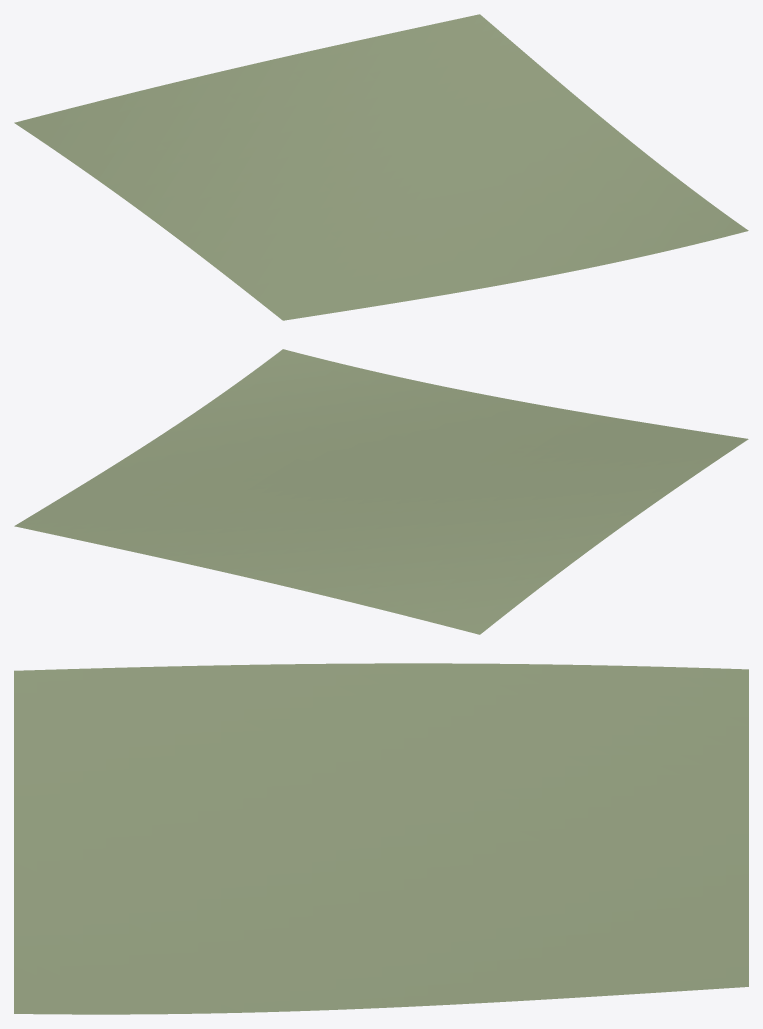
The model's file is alpine-9-15.glb.
The picture shows the model from 3 angles, top to bottom: view 1: azimuth 30°, elevation 25°; view 2: azimuth 150°, elevation 25°; view 3: azimuth 270°, elevation 25°; orthographic projection. The views are drawn at different scales.
Visible parts, largest first — view 1: alpine-9-15; view 2: alpine-9-15; view 3: alpine-9-15.
Part boxes in pixels (x1,y1,x2,y2): alpine-9-15: [14, 14, 748, 320]; alpine-9-15: [14, 349, 748, 634]; alpine-9-15: [14, 663, 748, 1014].
Bounding box in the file's own units: 256 × 15.61 × 256.
